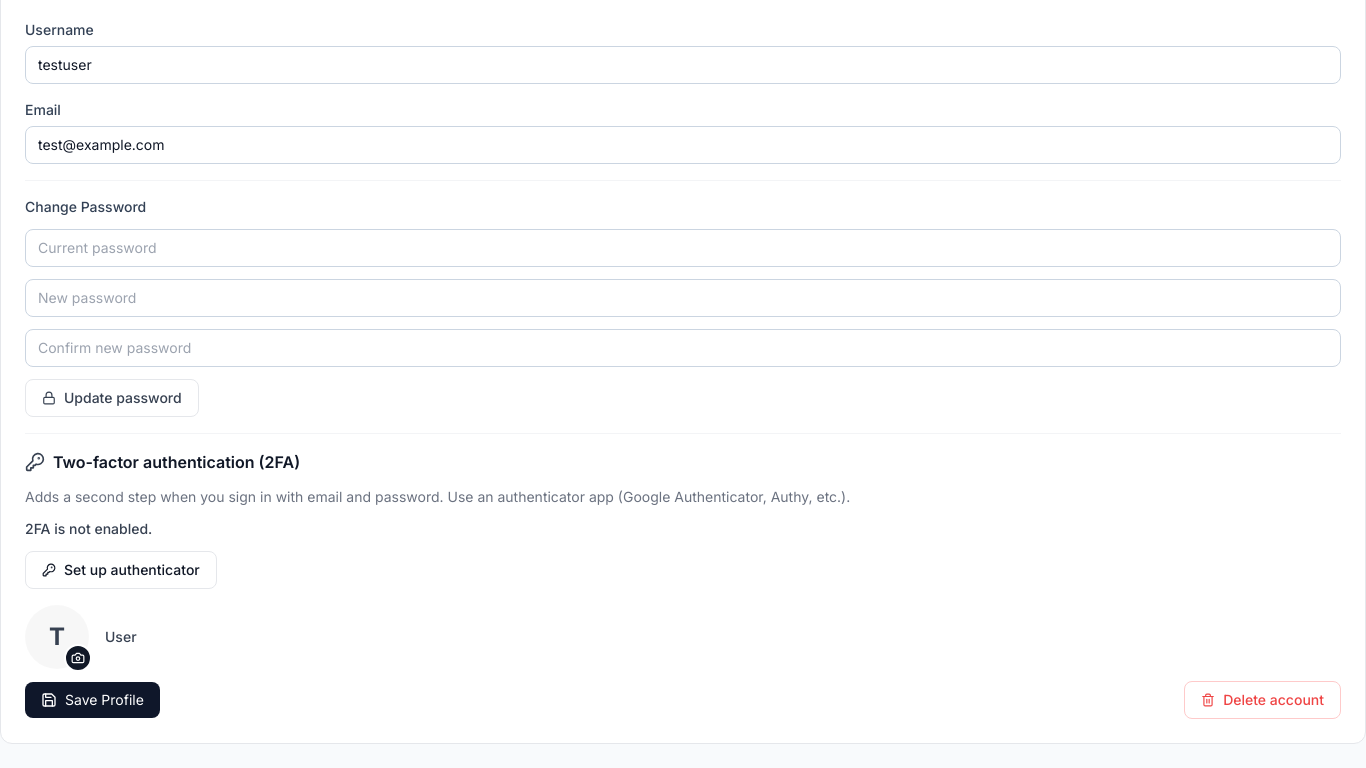
Scenario: AccountTab – Profile › FE-COMP-ACCOUNT-016: failed save shows error toast with error message
Click the button "Save Profile".
click(92, 700)  # box [25, 682, 160, 718]
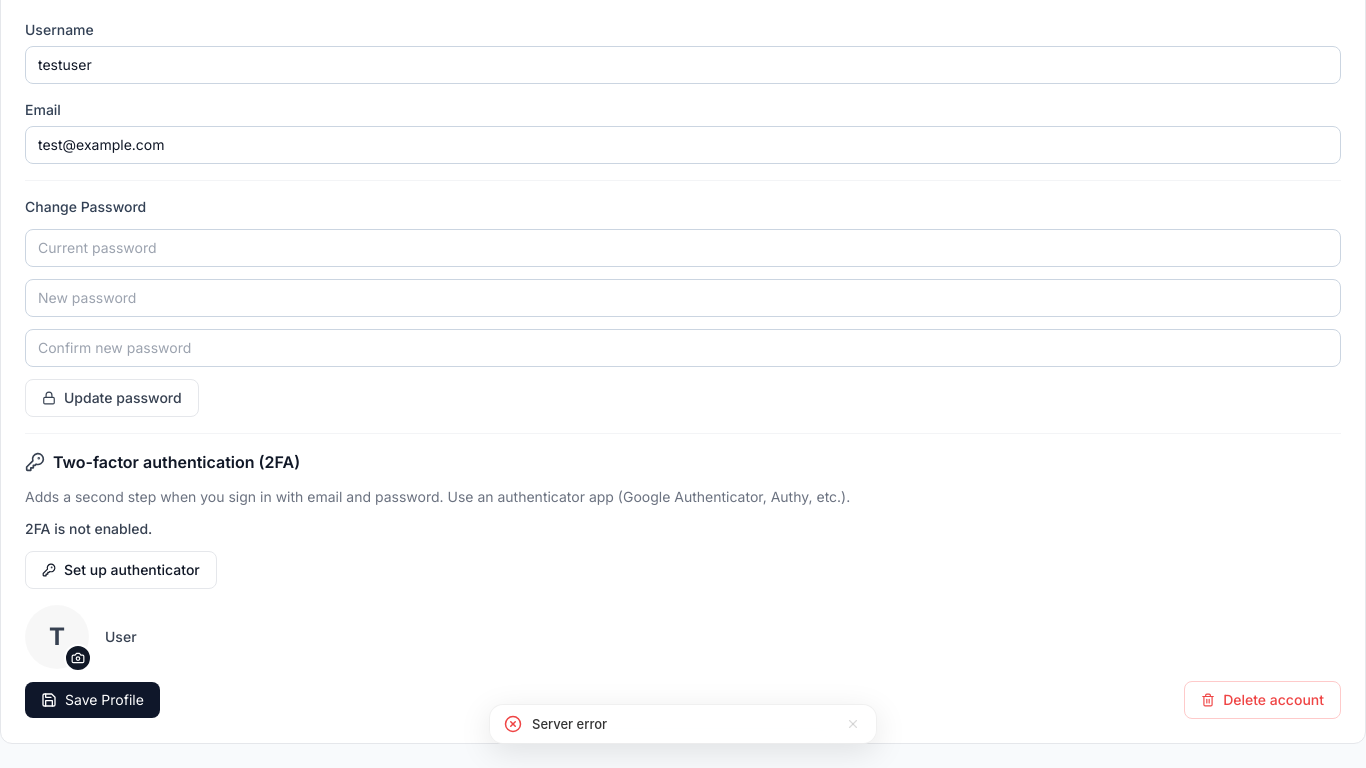
Check: the text "Server error" is shown, box [532, 716, 607, 732]
